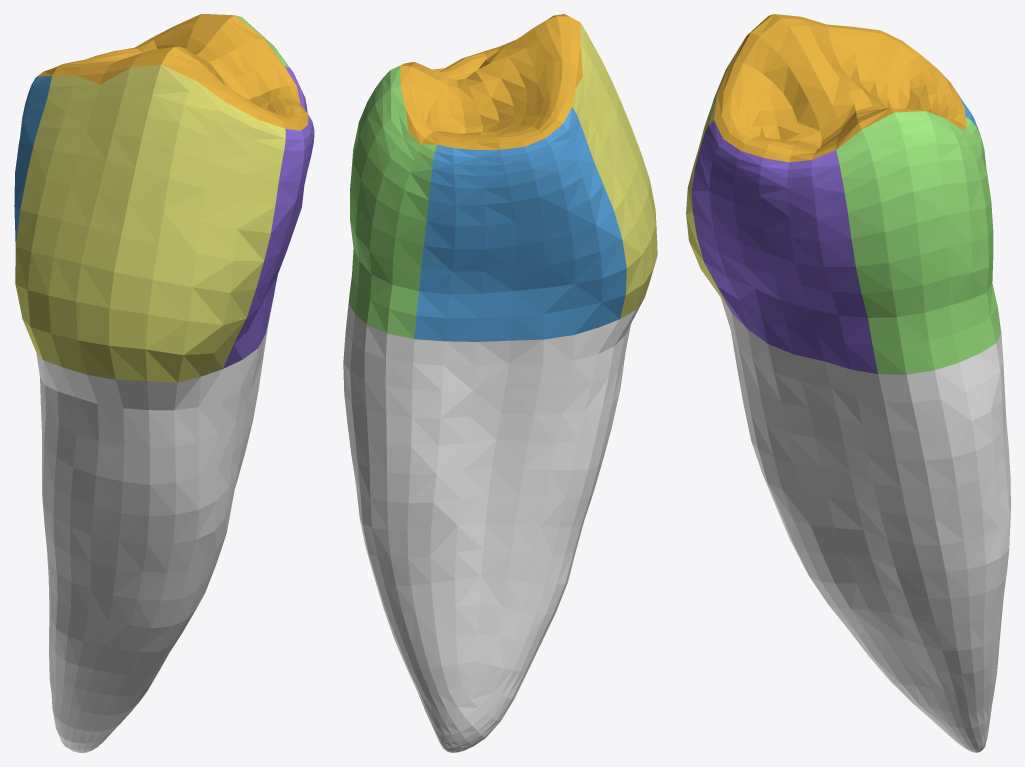
File: tooth_44_annotated.glb
3 views of the same model, side by side, from view 1: azimuth 30°, elevation 25°; view 2: azimuth 150°, elevation 25°; view 3: azimuth 270°, elevation 25° (orthographic). The views are drawn at different scales.
Visible parts, largest first — view 1: FDI_45; view 2: FDI_45; view 3: FDI_45.
Boxes of the visible parts, box(x1,y1,x2,y2) form: FDI_45: box(14, 14, 314, 752); FDI_45: box(343, 14, 657, 752); FDI_45: box(686, 14, 1010, 752).
Bounding box in the file's own units: 0.00773 × 0.0197 × 0.008.
